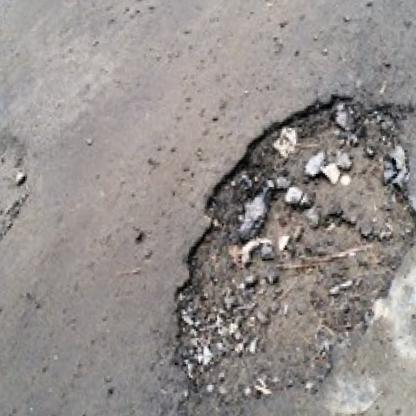pothole: (154, 85, 416, 413), (0, 127, 39, 308)
